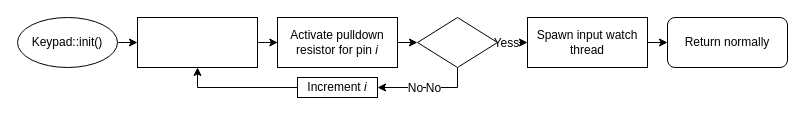
This 805x115 diagram has some shape labels left out. The centre of each missing label's shape, as x and y in pixels:
"i >= 12?" belongs at (x=457, y=42).
"Set pin i to INPUT" belongs at (x=197, y=42).
